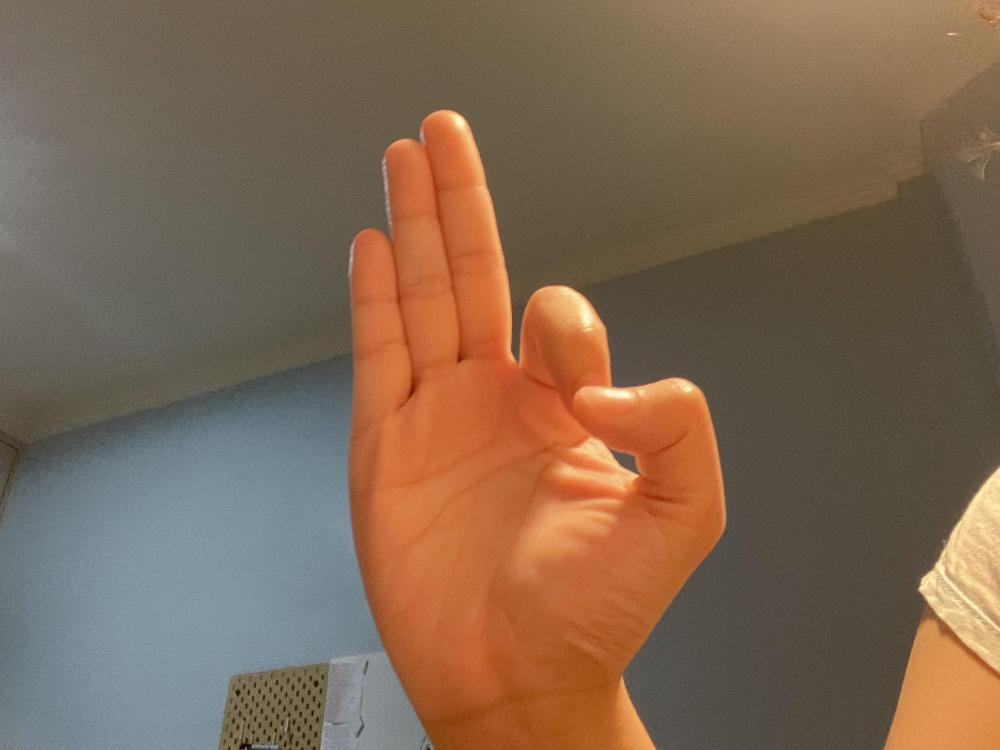f: (346, 107, 725, 722)
